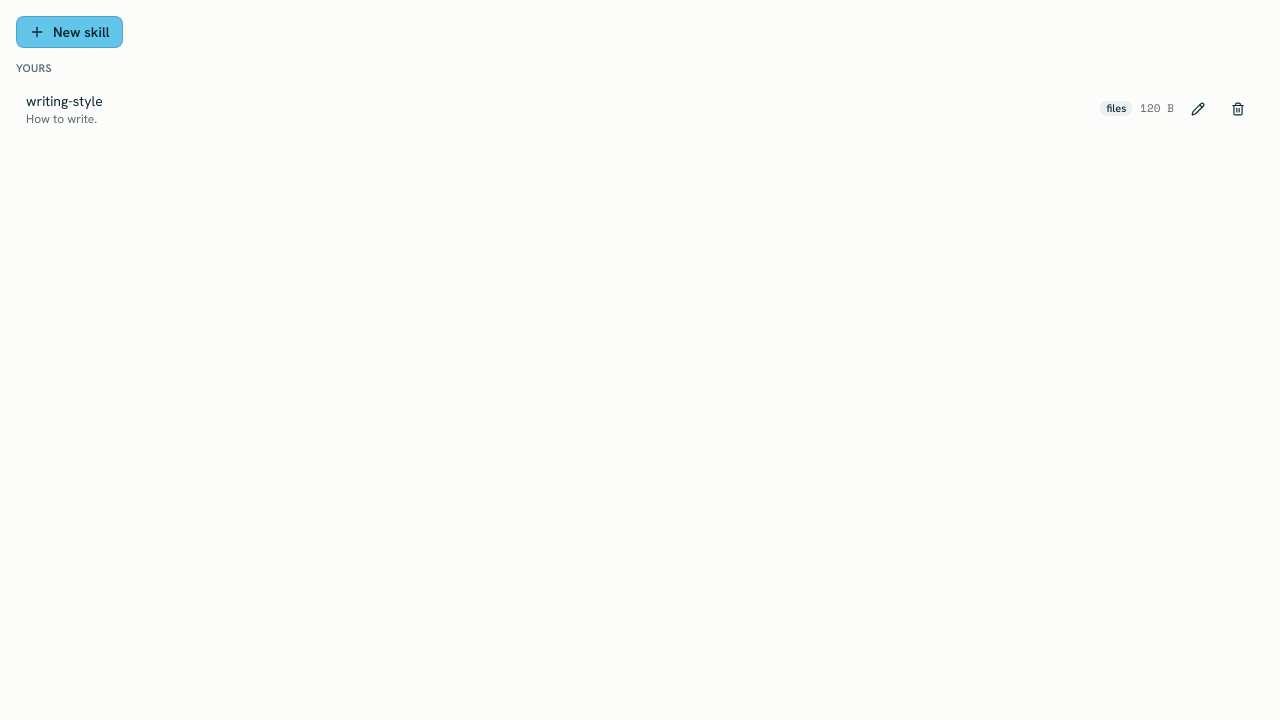
Test: editing a supporting file › is not previewed as markdown, and carries no name field
Click the button "writing-style How to write.".
click(64, 100)  # box top-left (26, 90), bottom-right (1092, 126)
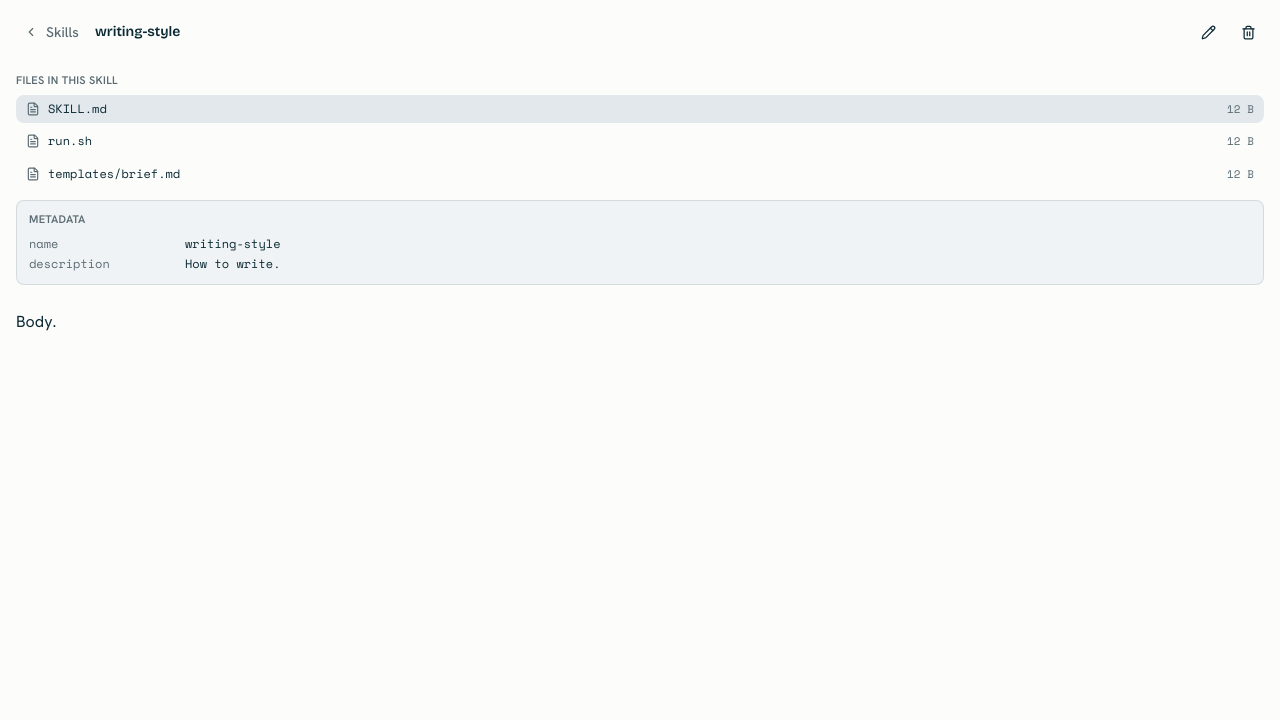
Click the button "templates/brief.md 12 B".
click(114, 173)  # box top-left (16, 160), bottom-right (1264, 188)
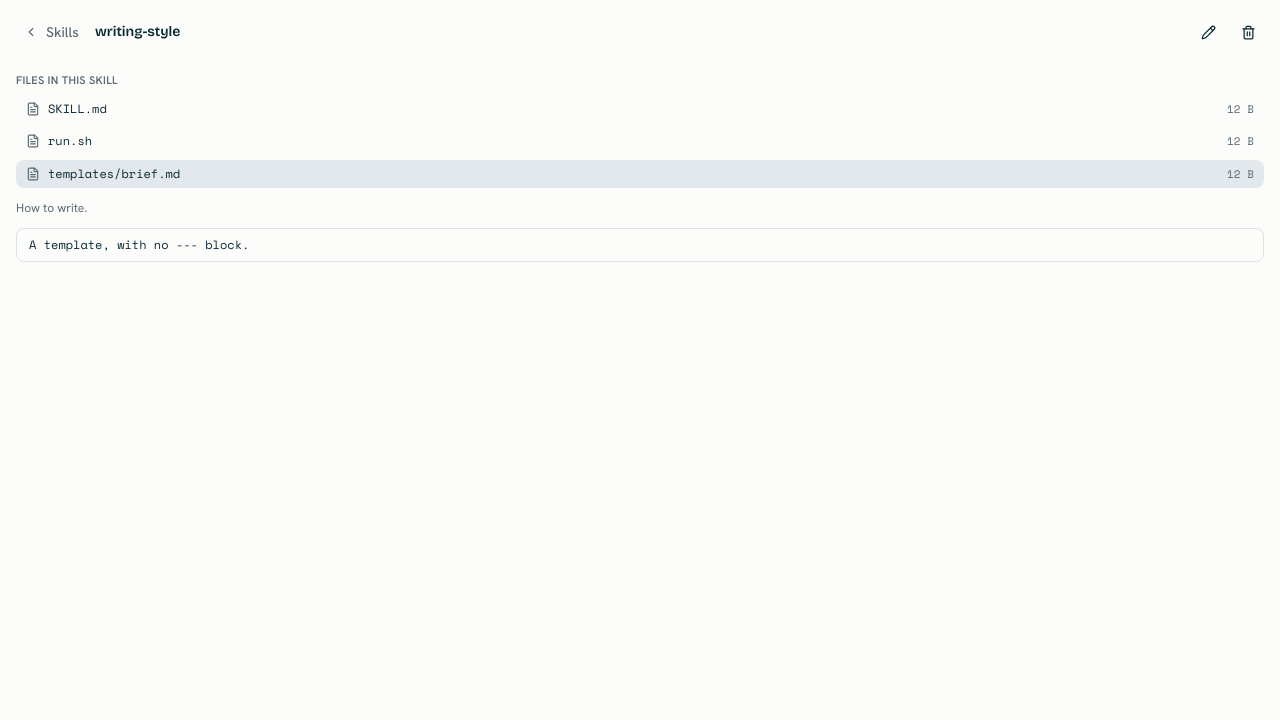
Click the button named "Edit templates/brief.md".
click(1208, 32)  # box top-left (1192, 16), bottom-right (1224, 48)
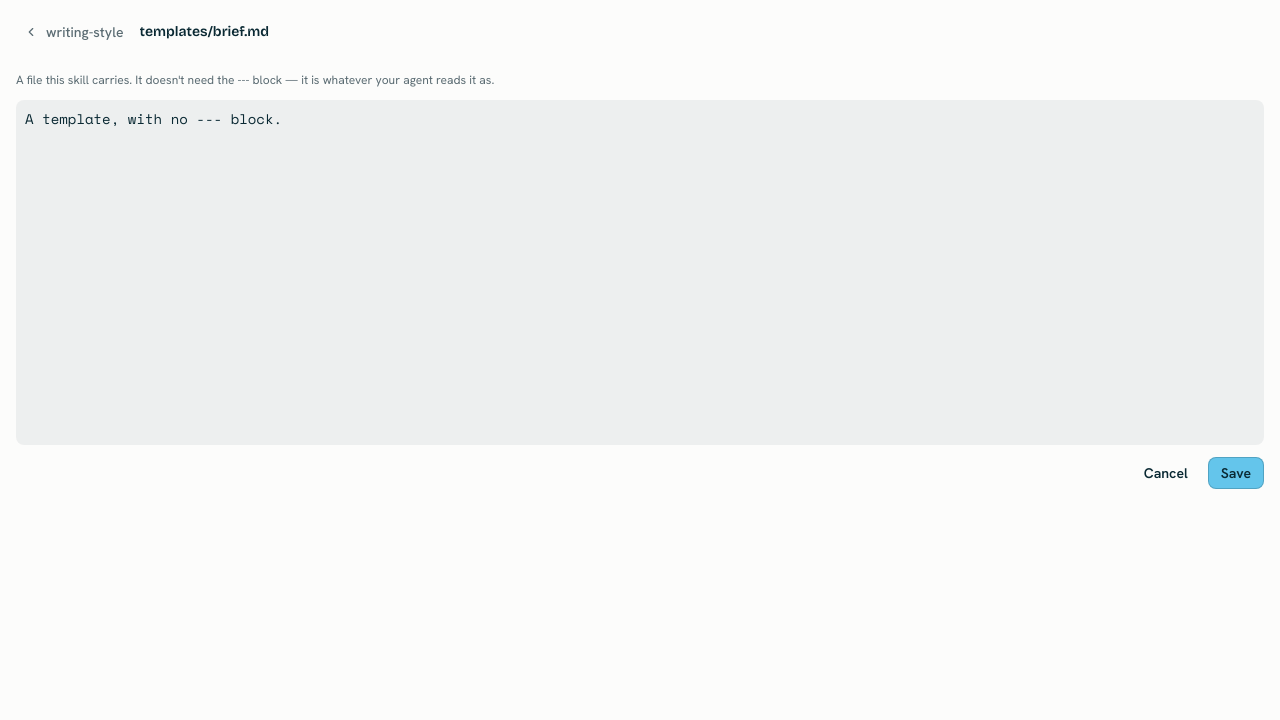
Expected: the text "name" is not shown
Now the text "A file this skill carries. It doesn't need the --- block — it is whatever your agent reads it as." is shown, box top-left (16, 72), bottom-right (494, 88)
